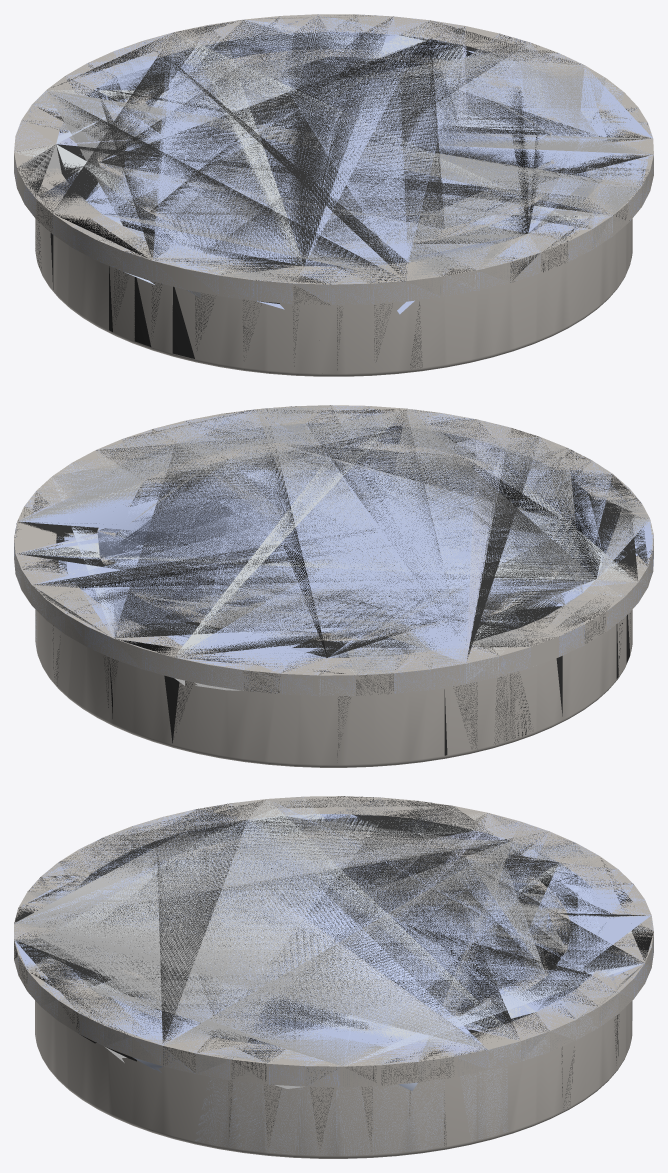
The picture shows the model from 3 angles, top to bottom: view 1: azimuth 30°, elevation 25°; view 2: azimuth 150°, elevation 25°; view 3: azimuth 270°, elevation 25°; orthographic projection.
Parts seen in each view (by area): view 1: node0, node31, node35, node1, node34, node33, node32, node2, node29; view 2: node0, node31, node34, node1, node35, node33, node32, node29, node2; view 3: node0, node1, node31, node34, node35, node33, node32, node29, node2.
Part boxes in pixels (x1,y1,x2,y2): node0: (14,14,653,376); node31: (17,15,650,369); node35: (25,14,652,283); node1: (17,14,652,297); node34: (14,14,653,314); node33: (16,21,645,274); node32: (15,19,612,288); node2: (14,15,471,273); node29: (19,34,612,269); node0: (14,405,653,767); node31: (14,405,652,755); node34: (15,406,653,695); node1: (15,405,649,690); node35: (14,405,653,692); node33: (15,405,653,674); node32: (14,441,647,696); node29: (16,422,509,668); node2: (16,437,539,674); node0: (14,796,653,1158); node1: (14,796,653,1088); node31: (14,796,653,1145); node34: (15,804,653,1086); node35: (15,797,650,1070); node33: (14,799,647,1066); node32: (50,813,642,1155); node29: (14,814,547,1064); node2: (25,813,650,1039).
Bounding box in the file's own units: 0.0225 × 0.004 × 0.0225.
